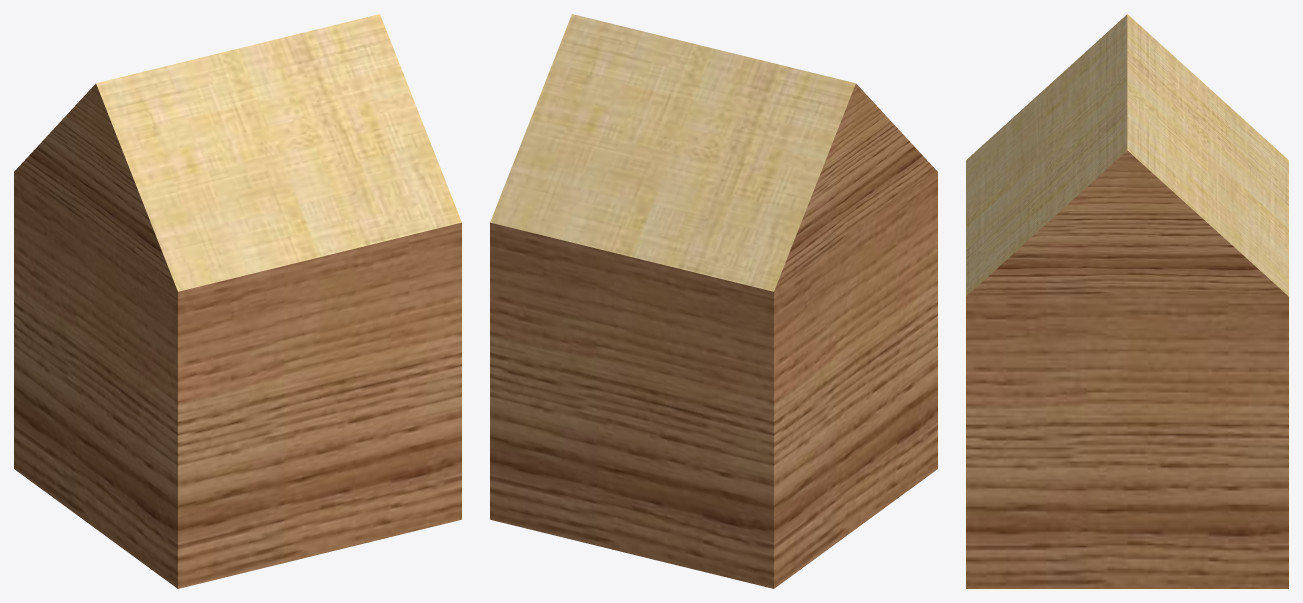
Rendered from house22.glb.
3 views of the same model, side by side, from view 1: azimuth 30°, elevation 25°; view 2: azimuth 150°, elevation 25°; view 3: azimuth 270°, elevation 25° (orthographic).
Bounding box in the file's own units: 0.04 × 0.06 × 0.04.
Materials: 4 (2 with a texture image).
